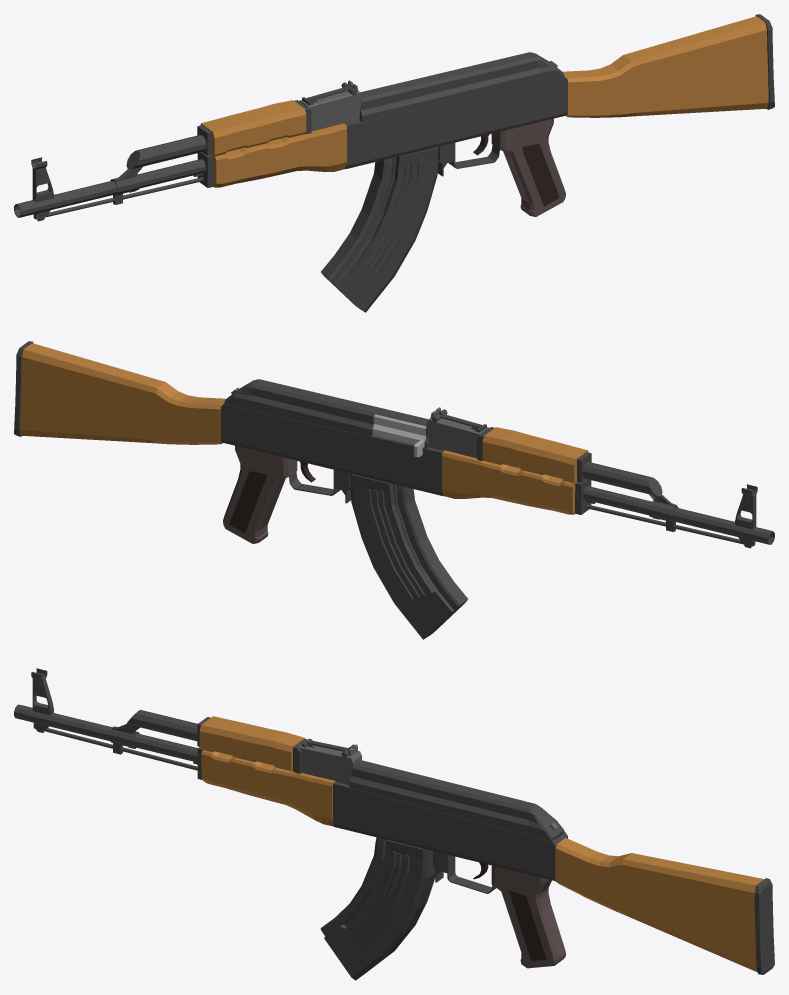
The model's file is AK47_enemey.gltf.
The picture shows the model from 3 angles, top to bottom: view 1: azimuth 30°, elevation 25°; view 2: azimuth 150°, elevation 25°; view 3: azimuth 330°, elevation 25°; orthographic projection.
Parts seen in each view (by area): view 1: AK47, Wood Buttstock, 30-Round Mag (Old), Wood Handguard Bottom, Stock Handle, Wood Handguard Top; view 2: AK47, Wood Buttstock, 30-Round Mag (Old), Wood Handguard Bottom, Stock Handle, Wood Handguard Top, Dispenser; view 3: AK47, Wood Buttstock, 30-Round Mag (Old), Wood Handguard Bottom, Stock Handle, Wood Handguard Top.
Boxes of the visible parts, bbox=[...] form: AK47: bbox=[14, 52, 567, 221]; Wood Buttstock: bbox=[562, 14, 774, 117]; 30-Round Mag (Old): bbox=[321, 146, 438, 312]; Wood Handguard Bottom: bbox=[213, 123, 346, 187]; Stock Handle: bbox=[491, 118, 565, 216]; Wood Handguard Top: bbox=[197, 100, 311, 156]; AK47: bbox=[221, 379, 774, 548]; Wood Buttstock: bbox=[14, 341, 226, 444]; 30-Round Mag (Old): bbox=[350, 473, 467, 639]; Wood Handguard Bottom: bbox=[442, 450, 575, 514]; Stock Handle: bbox=[223, 446, 297, 543]; Wood Handguard Top: bbox=[477, 427, 591, 483]; Dispenser: bbox=[372, 414, 426, 457]; AK47: bbox=[14, 668, 567, 893]; Wood Buttstock: bbox=[555, 838, 774, 974]; 30-Round Mag (Old): bbox=[320, 837, 435, 980]; Wood Handguard Bottom: bbox=[201, 750, 335, 826]; Stock Handle: bbox=[491, 865, 565, 968]; Wood Handguard Top: bbox=[197, 716, 307, 773].
Bounding box in the file's own units: 10.6 × 3.07 × 0.4743.
